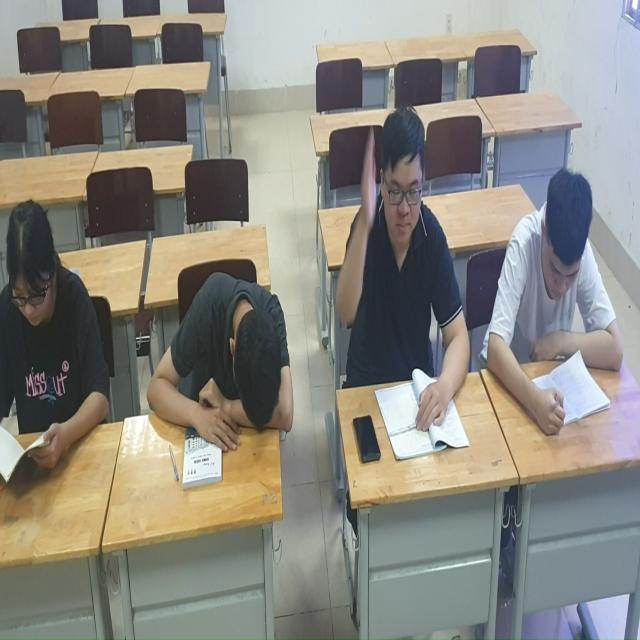raise_hand: (337, 100, 471, 453)
read: (486, 156, 635, 438), (1, 204, 128, 502)
sleep: (139, 269, 296, 468)
